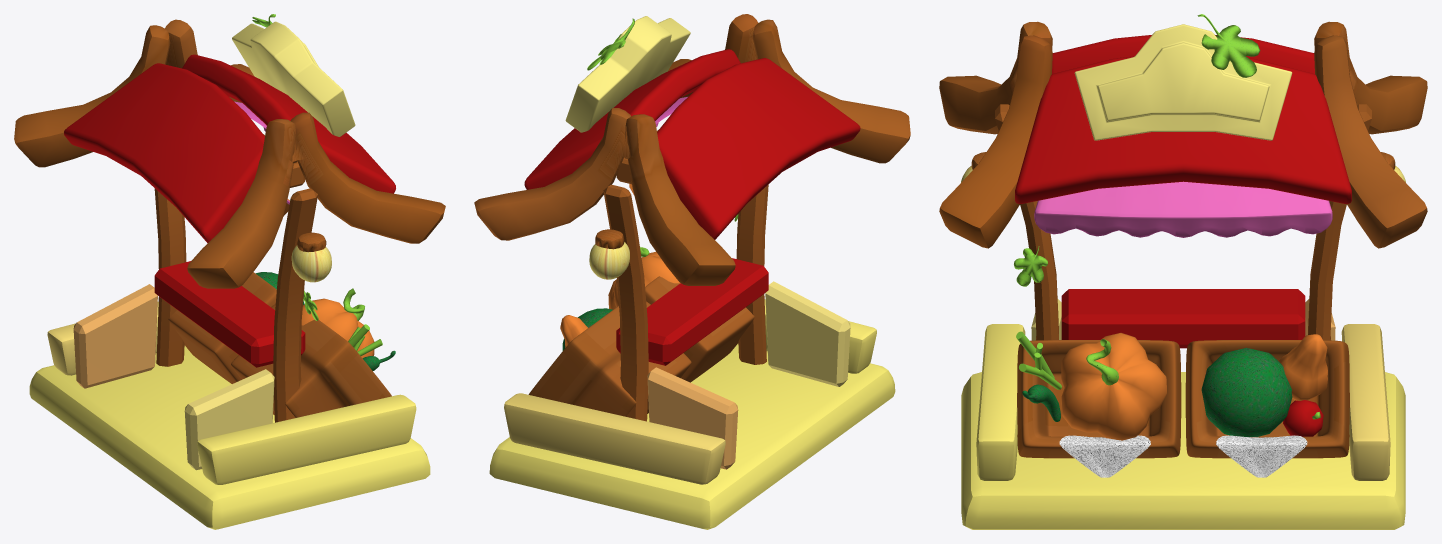
Rendered from carrofruta.obj.
The picture shows the model from 3 angles, left to right: view 1: azimuth 30°, elevation 25°; view 2: azimuth 150°, elevation 25°; view 3: azimuth 270°, elevation 25°; orthographic projection. The views are drawn at different scales.
Visible parts, largest first — view 1: boxes_Material.004; view 2: boxes_Material.004; view 3: boxes_Material.004.
Part boxes in pixels (<box>): boxes_Material.004: <box>14,14,445,529</box>; boxes_Material.004: <box>474,14,910,529</box>; boxes_Material.004: <box>939,14,1427,529</box>.
Size of the model in its own units: 1.88 by 2.86 by 2.61.
